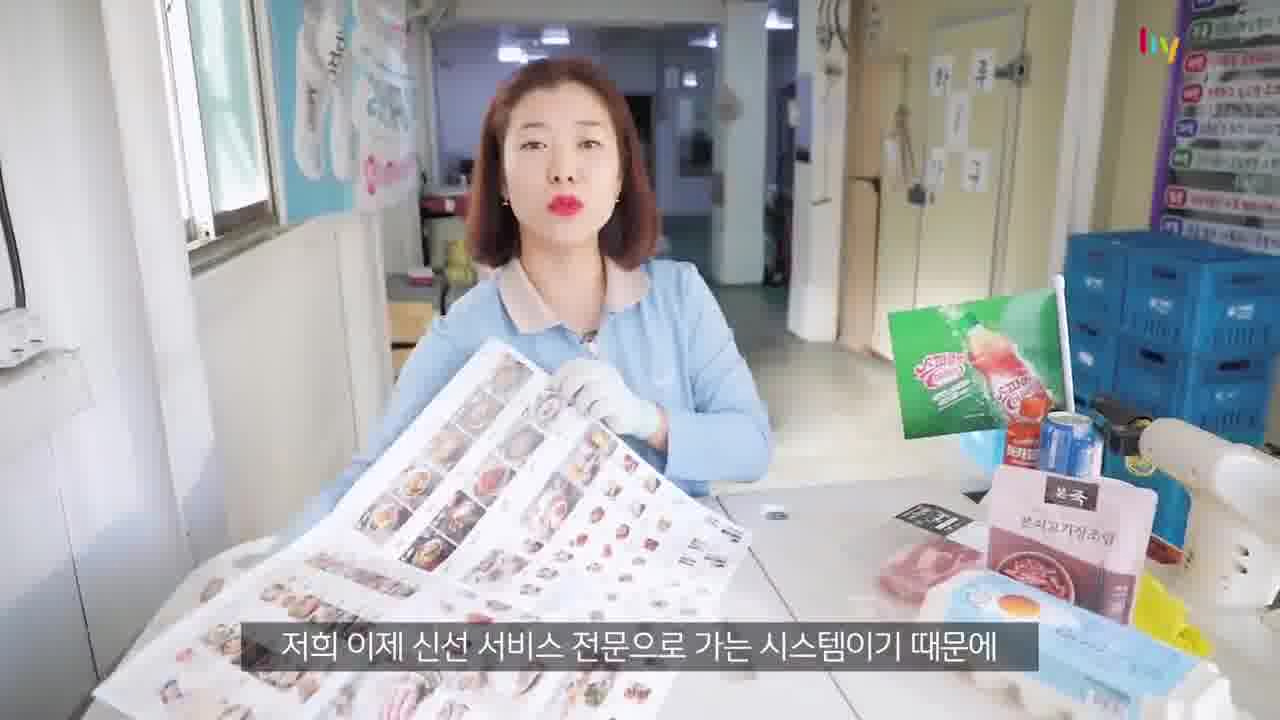Yakurut: (373, 51, 785, 501)
